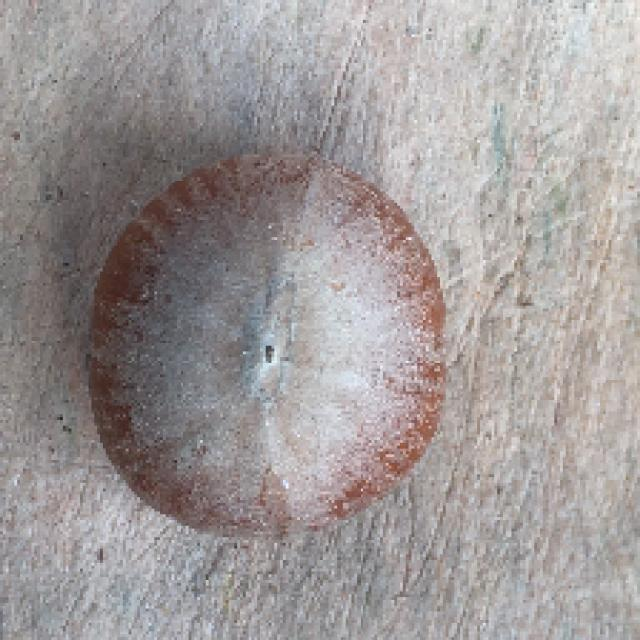qualityHazelnut: (85, 154, 446, 536)
